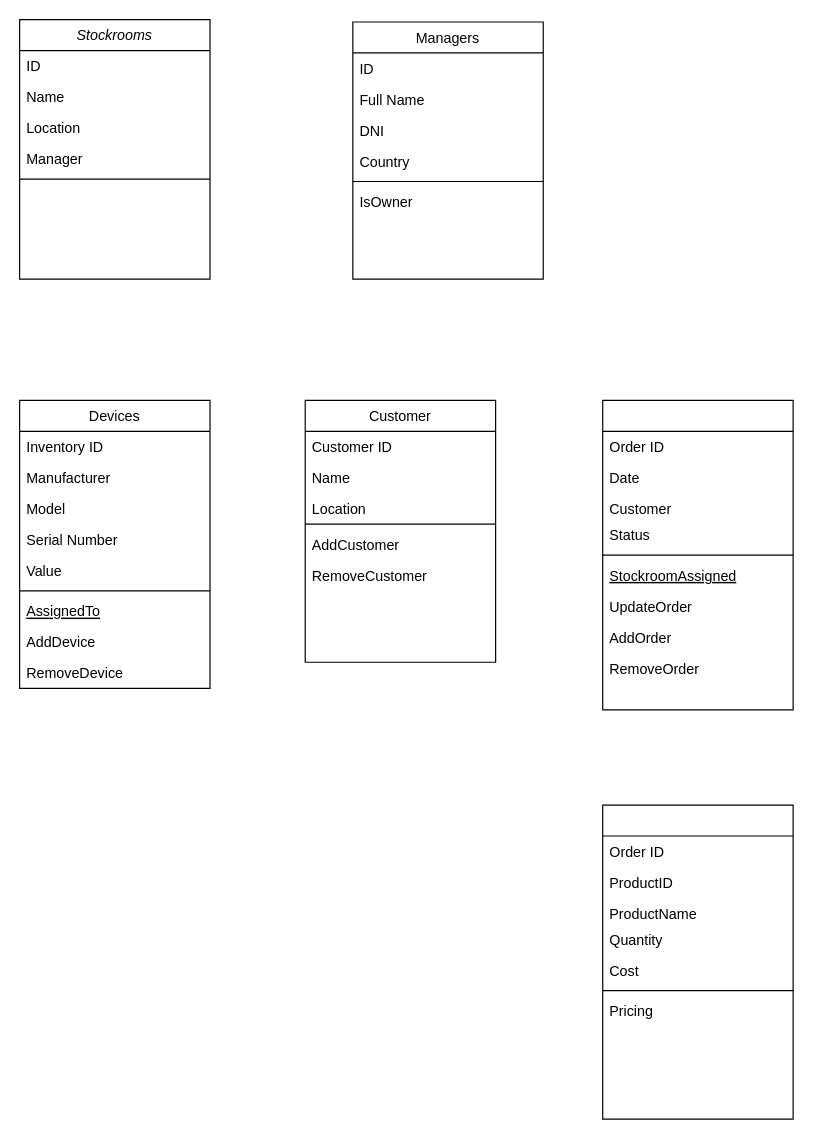
The diagram is 813 pixels wide and 1139 high, and some of its shapes have lost their labels. Here are the shapes that lost their labels. From the top down, the box of each, then its label:
(602, 399, 793, 710): Orders
(602, 804, 793, 1119): OrderDetail
